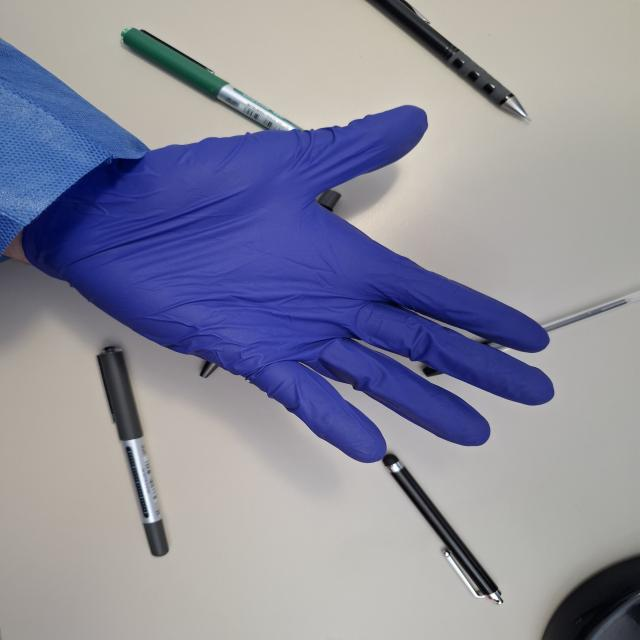glove_on: (24, 102, 560, 466)
